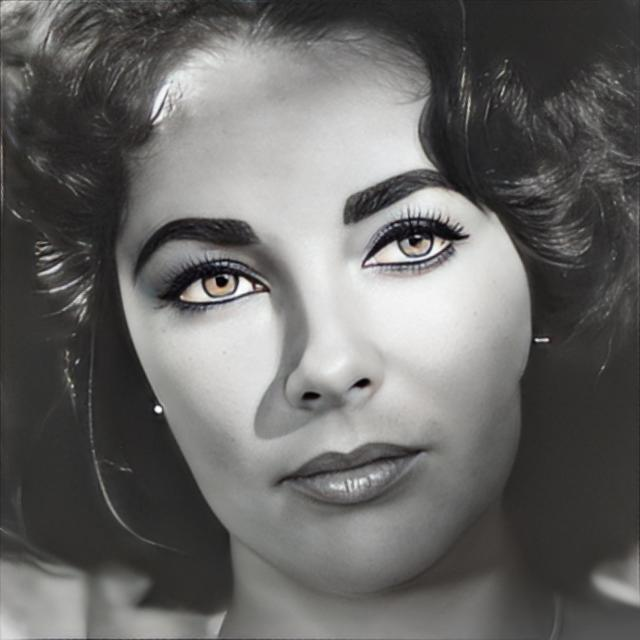neutral: (115, 13, 534, 591)
